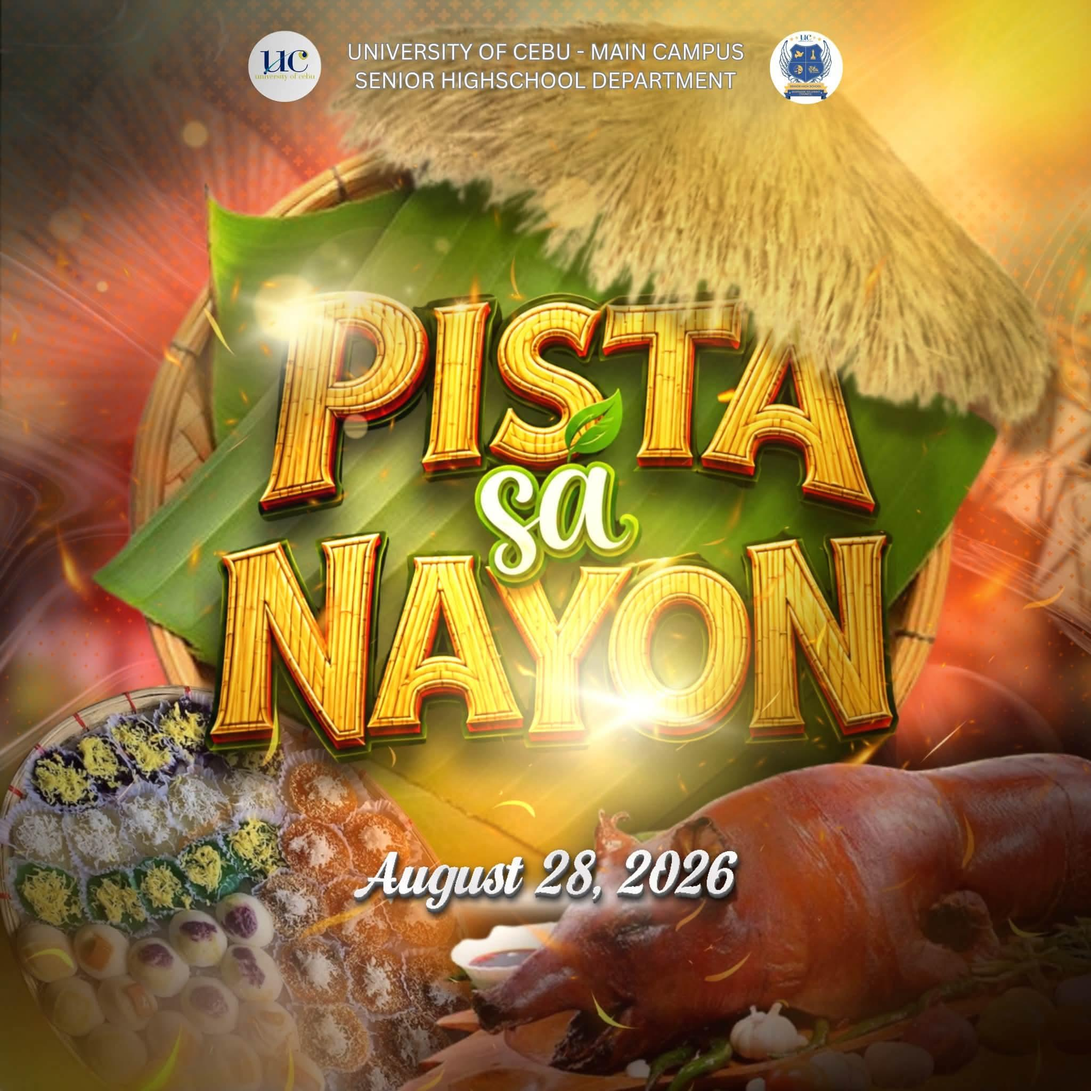logo: (764, 26, 848, 108), (245, 29, 325, 107)
text: (190, 287, 910, 768), (343, 35, 750, 94), (349, 847, 743, 905)
